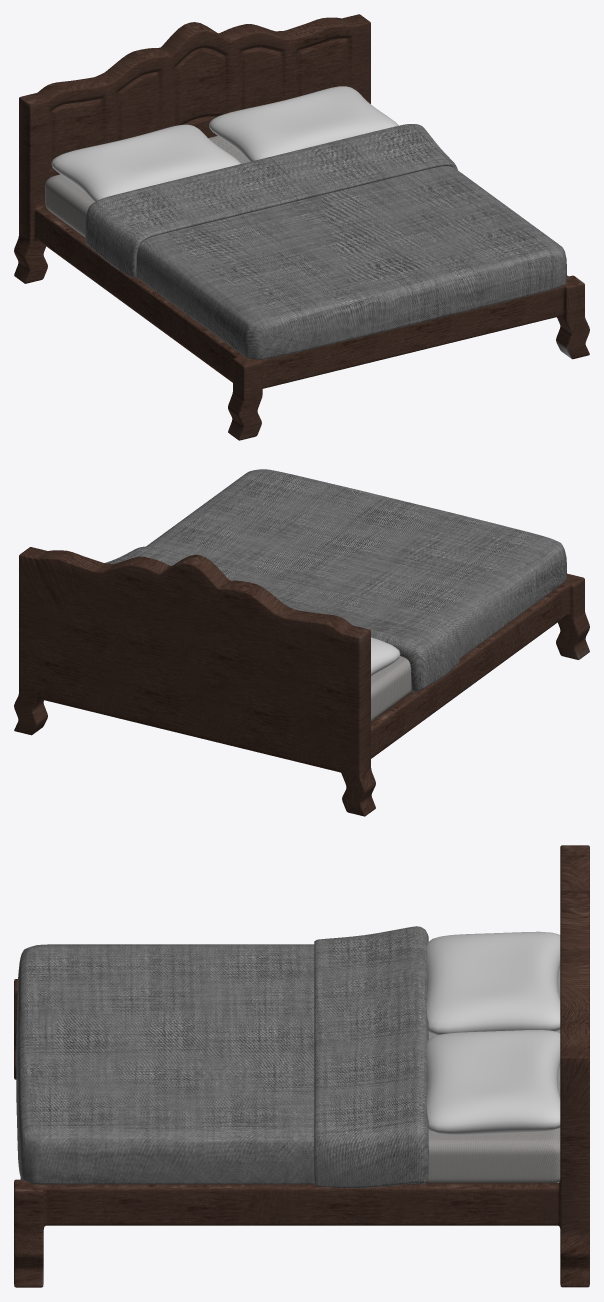
File: MasterBedComplete.fbx
3 renders of one model, top to bottom at view 1: azimuth 30°, elevation 25°; view 2: azimuth 150°, elevation 25°; view 3: azimuth 270°, elevation 25°, orthographic. The views are drawn at different scales.
Visible parts, largest first — view 1: BedCover, BedFrame, BedPillow, BedMattress; view 2: BedFrame, BedCover, BedMattress, BedPillow; view 3: BedCover, BedFrame, BedPillow, BedMattress.
Boxes of the visible parts, x1,y1,x2,y2 form: BedCover: (85,124,566,359); BedFrame: (14,14,589,440); BedPillow: (51,86,398,201); BedMattress: (45,136,249,236); BedFrame: (14,547,589,816); BedCover: (105,469,566,692); BedMattress: (371,656,411,721); BedPillow: (371,637,400,675); BedCover: (16,926,428,1188); BedFrame: (14,845,589,1287); BedPillow: (426,931,560,1134); BedMattress: (427,966,560,1182).
Size of the model in its own units: 219 by 126 by 243.
